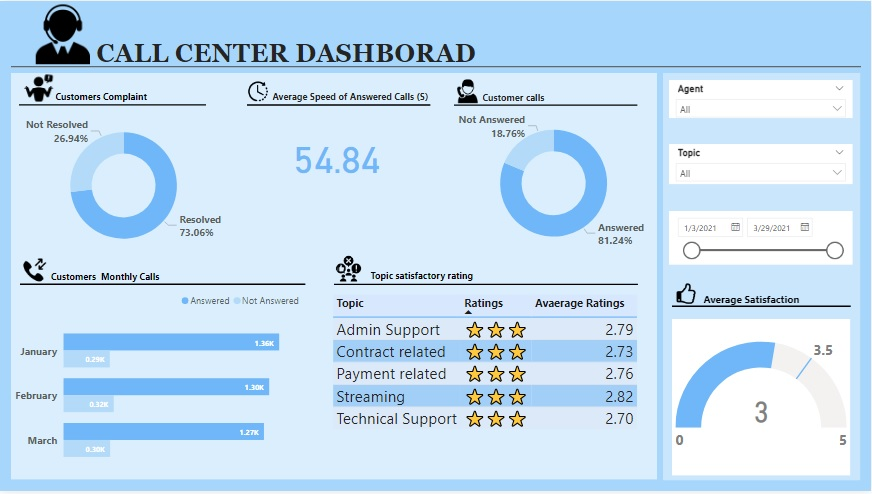

This screenshot's page, from the dashboard's own definition file:
{"tool":"powerbi","page":{"name":"Page 1","canvas":[1280,720],"ordinal":0},"visuals":[{"type":"shape","box":[16,106,950,598],"z":0},{"type":"shape","box":[975.7,105.7,290,598.6],"z":1000},{"type":"textbox","box":[137.1,44.3,1005.7,65.7],"z":2000},{"type":"donutChart","fields":{"Category":["Sheet1.Resolved"],"Y":["CountNonNull(Sheet1.Resolved)"]},"box":[37.1,155.7,290,231.4],"z":3000},{"type":"donutChart","fields":{"Category":["Sheet1.Answered (Y/N)"],"Y":["CountNonNull(Sheet1.Answered (Y/N))"]},"box":[665.7,152.9,295.7,230],"z":4000},{"type":"card","fields":{"Values":["Avg(Sheet1.Speed of answer in seconds)"]},"box":[358.6,157.3,270.7,138.9],"z":5000},{"type":"clusteredBarChart","fields":{"Category":["Sheet1.Date.Variation.Date Hierarchy.Month"],"Series":["Sheet1.Answered (Y/N)"],"Y":["CountNonNull(Sheet1.Call Id)"]},"box":[16,420,324,284],"z":6000},{"type":"gauge","fields":{"Y":["Avg(Sheet1.Satisfaction rating)"]},"box":[987.9,467.7,262.2,229.6],"z":7000},{"type":"slicer","fields":{"Values":["Sheet1.Date"]},"box":[984.3,308.6,270,78.6],"z":8000},{"type":"slicer","fields":{"Values":["Sheet1.Topic"]},"box":[984.3,210,270,58.6],"z":9000},{"type":"slicer","fields":{"Values":["Sheet1.Agent"]},"box":[984.3,115.7,270,55.7],"z":10000},{"type":"shape","box":[15.7,80,1250,34.3],"z":11000},{"type":"shape","box":[667.1,121.4,270,61.4],"z":12000},{"type":"shape","box":[32.9,121.4,270,61.4],"z":13000},{"type":"shape","box":[358.6,121.4,270,60],"z":14000},{"type":"shape","box":[30,394.3,297.1,44.3],"z":15000},{"type":"shape","box":[370,390,567.1,52.9],"z":16000},{"type":"textbox","box":[393.2,127.9,250.2,26.1],"z":17000},{"type":"textbox","box":[66,393.2,200.7,28.9],"z":18000},{"type":"textbox","box":[418,390.5,299.7,34.4],"z":19000},{"type":"textbox","box":[77,127.9,177.4,27.5],"z":20000},{"type":"textbox","box":[702.6,127.9,129.2,28.9],"z":21000},{"type":"image","box":[30,0,126,98],"z":22000},{"type":"image","box":[25.7,372.9,51.4,44.3],"z":23000},{"type":"lineChart","fields":{"Category":["Sheet1.Topic"],"Y":["Sum(Sheet1.Satisfaction rating)"]},"box":[358.6,420,602.9,284.3],"z":24000},{"type":"image","box":[30,105.7,55.7,48.6],"z":25000},{"type":"image","box":[658.6,108.6,55.7,44.3],"z":26000},{"type":"shape","box":[988.6,431.4,262.9,35.7],"z":27000},{"type":"image","box":[981.2,410,55,40],"z":28000},{"type":"textbox","box":[1029.8,423.5,180.1,38.5],"z":29000},{"type":"image","box":[354.3,360,82.9,71.4],"z":30000},{"type":"image","box":[352.9,112.9,52.9,38.6],"z":31000}]}

Visuals, with their boxes in screenshot pixels (x1, y1, x2, y2), scaled from the page's 1280x720 canvas onto the 872x494 screenshot:
shape: (x1=11, y1=73, x2=658, y2=483)
shape: (x1=665, y1=73, x2=862, y2=483)
textbox: (x1=93, y1=30, x2=779, y2=75)
donutChart - Sheet1.Resolved x CountNonNull(Sheet1.Resolved): (x1=25, y1=107, x2=223, y2=266)
donutChart - Sheet1.Answered (Y/N) x CountNonNull(Sheet1.Answered (Y/N)): (x1=454, y1=105, x2=655, y2=263)
card - Avg(Sheet1.Speed of answer in seconds): (x1=244, y1=108, x2=429, y2=203)
clusteredBarChart - Sheet1.Date.Variation.Date Hierarchy.Month x Sheet1.Answered (Y/N): (x1=11, y1=288, x2=232, y2=483)
gauge - Avg(Sheet1.Satisfaction rating): (x1=673, y1=321, x2=852, y2=478)
slicer - Sheet1.Date: (x1=671, y1=212, x2=854, y2=266)
slicer - Sheet1.Topic: (x1=671, y1=144, x2=854, y2=184)
slicer - Sheet1.Agent: (x1=671, y1=79, x2=854, y2=118)
shape: (x1=11, y1=55, x2=862, y2=78)
shape: (x1=454, y1=83, x2=638, y2=125)
shape: (x1=22, y1=83, x2=206, y2=125)
shape: (x1=244, y1=83, x2=428, y2=124)
shape: (x1=20, y1=271, x2=223, y2=301)
shape: (x1=252, y1=268, x2=638, y2=304)
textbox: (x1=268, y1=88, x2=438, y2=106)
textbox: (x1=45, y1=270, x2=182, y2=290)
textbox: (x1=285, y1=268, x2=489, y2=292)
textbox: (x1=52, y1=88, x2=173, y2=107)
textbox: (x1=479, y1=88, x2=567, y2=108)
image: (x1=20, y1=0, x2=106, y2=67)
image: (x1=18, y1=256, x2=53, y2=286)
lineChart - Sheet1.Topic x Sum(Sheet1.Satisfaction rating): (x1=244, y1=288, x2=655, y2=483)
image: (x1=20, y1=73, x2=58, y2=106)
image: (x1=449, y1=75, x2=487, y2=105)
shape: (x1=673, y1=296, x2=853, y2=320)
image: (x1=668, y1=281, x2=706, y2=309)
textbox: (x1=702, y1=291, x2=824, y2=317)
image: (x1=241, y1=247, x2=298, y2=296)
image: (x1=240, y1=77, x2=276, y2=104)
